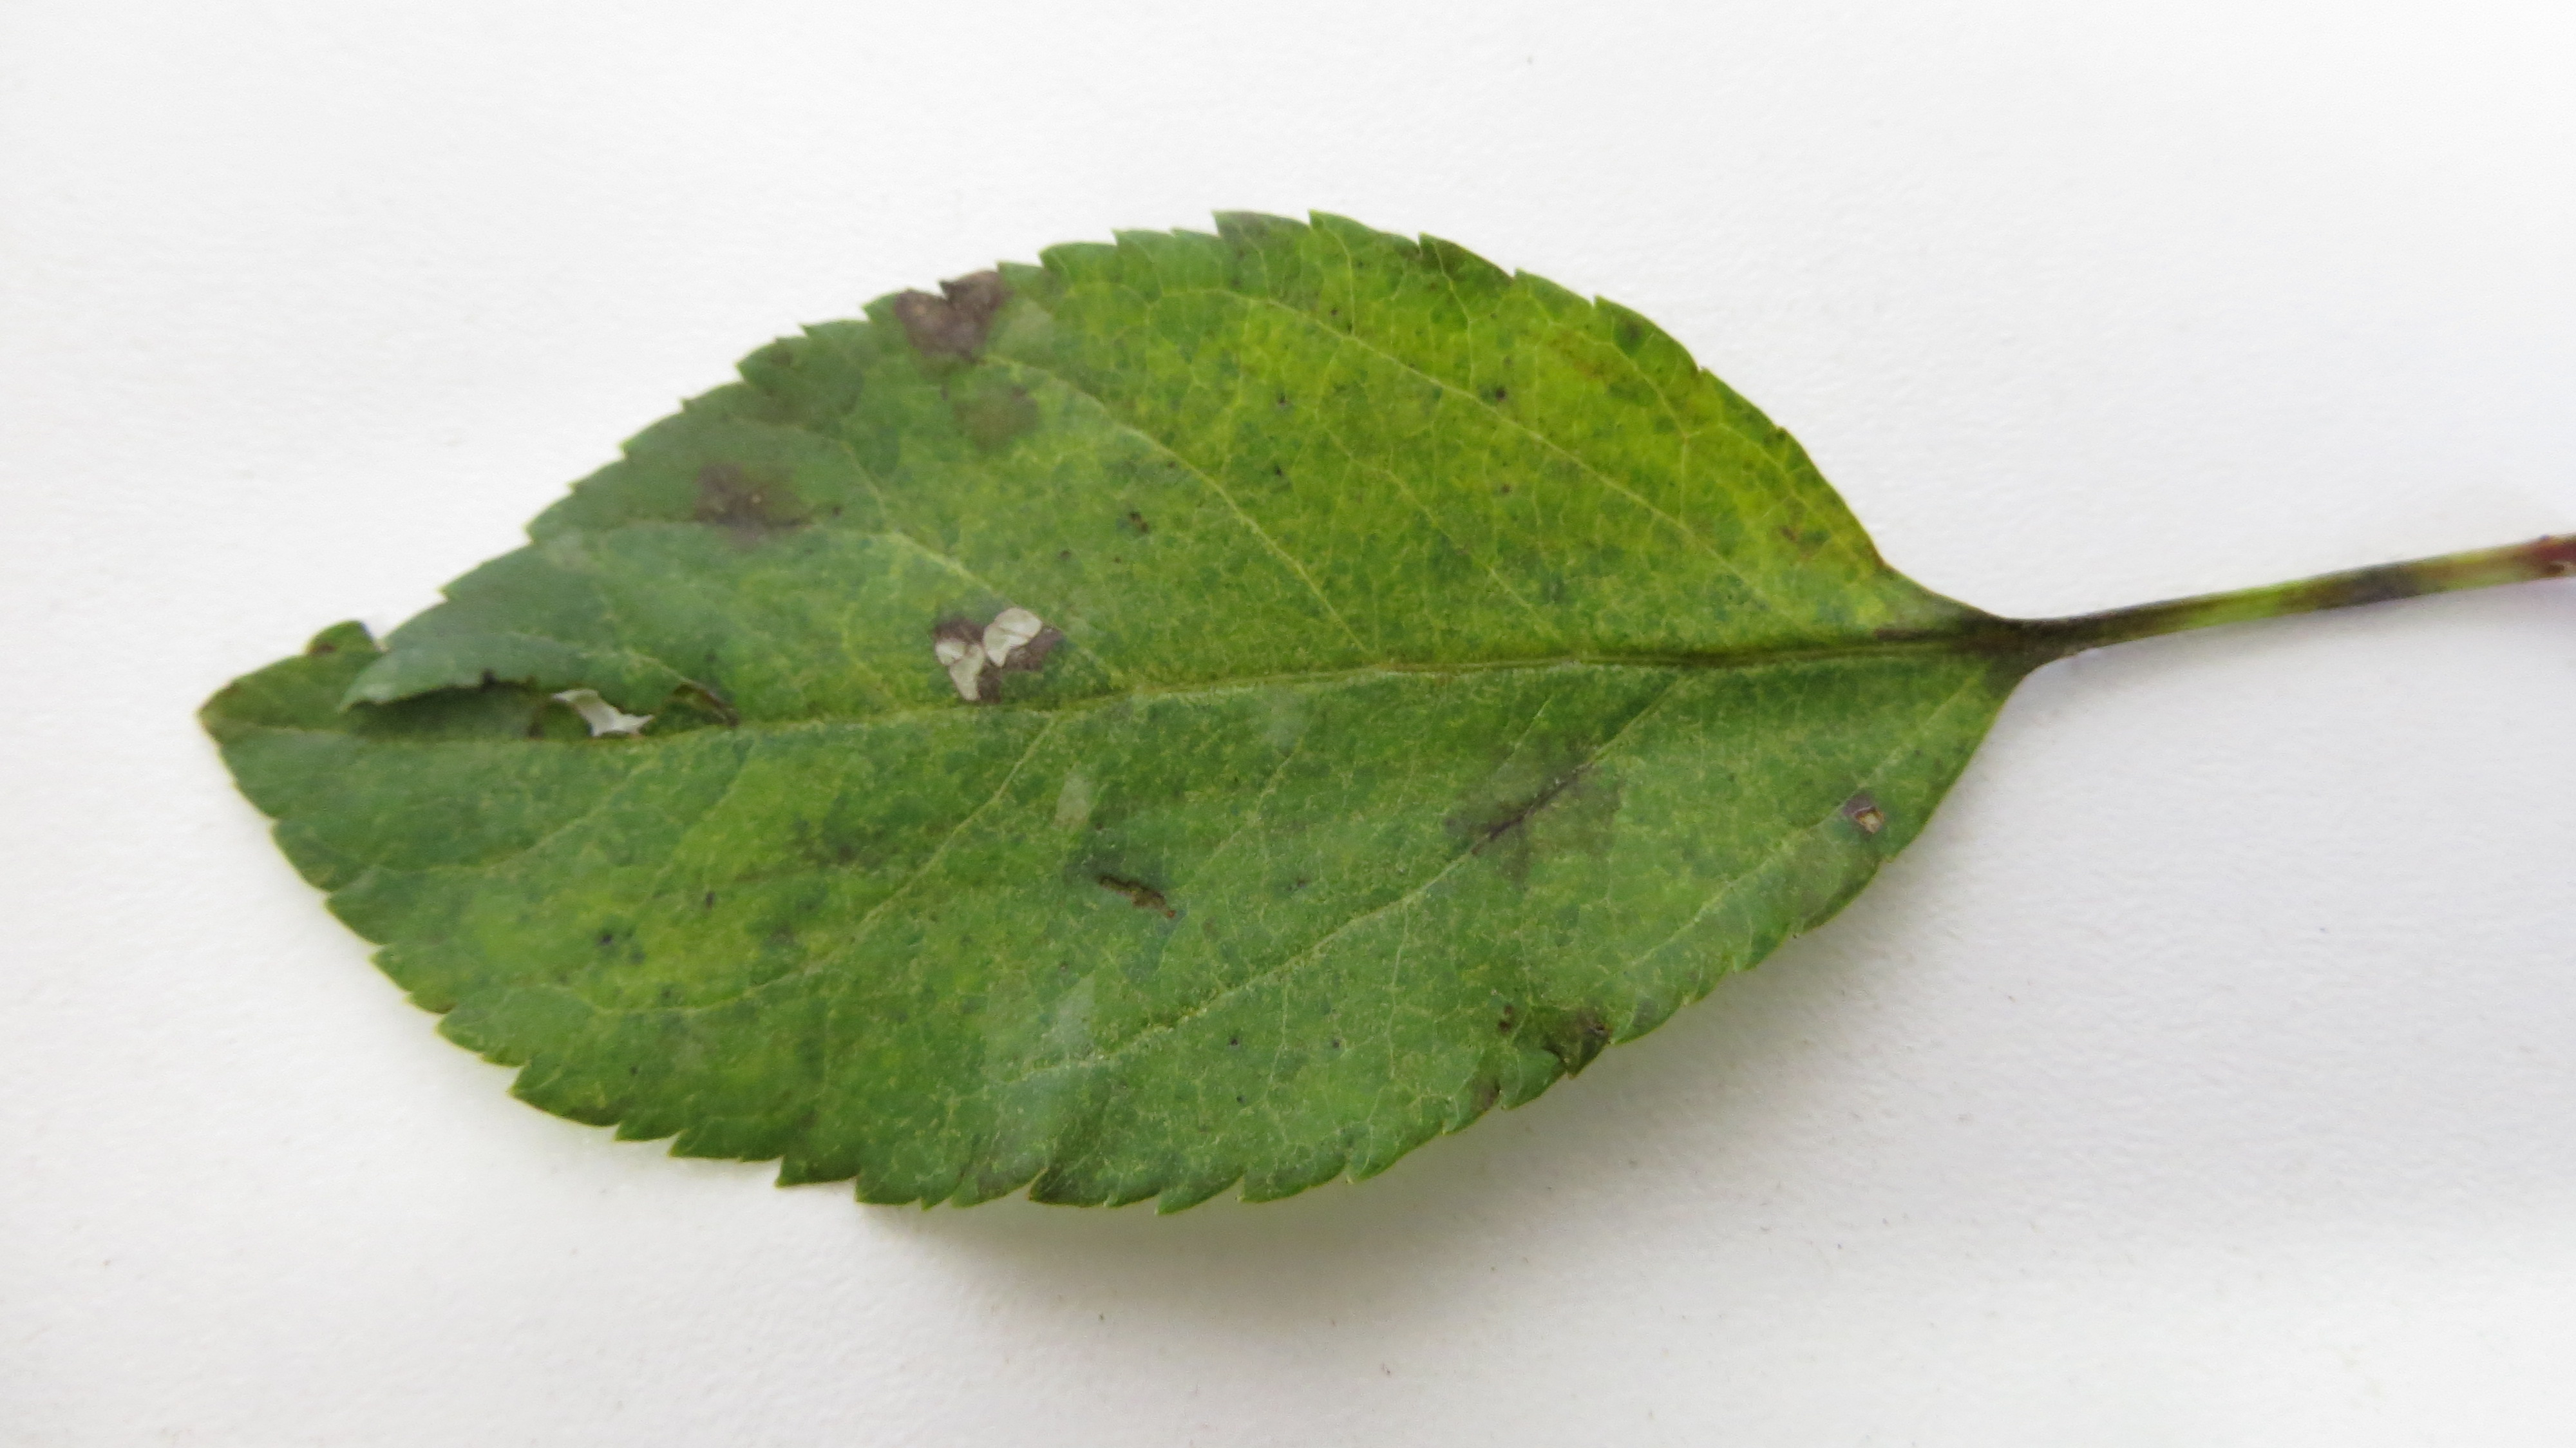sarna: (1415, 720, 1640, 894), (660, 448, 828, 574), (924, 577, 1074, 713), (886, 260, 1028, 370), (1481, 981, 1622, 1087), (1079, 848, 1203, 942), (939, 356, 1046, 462), (656, 648, 757, 745)
